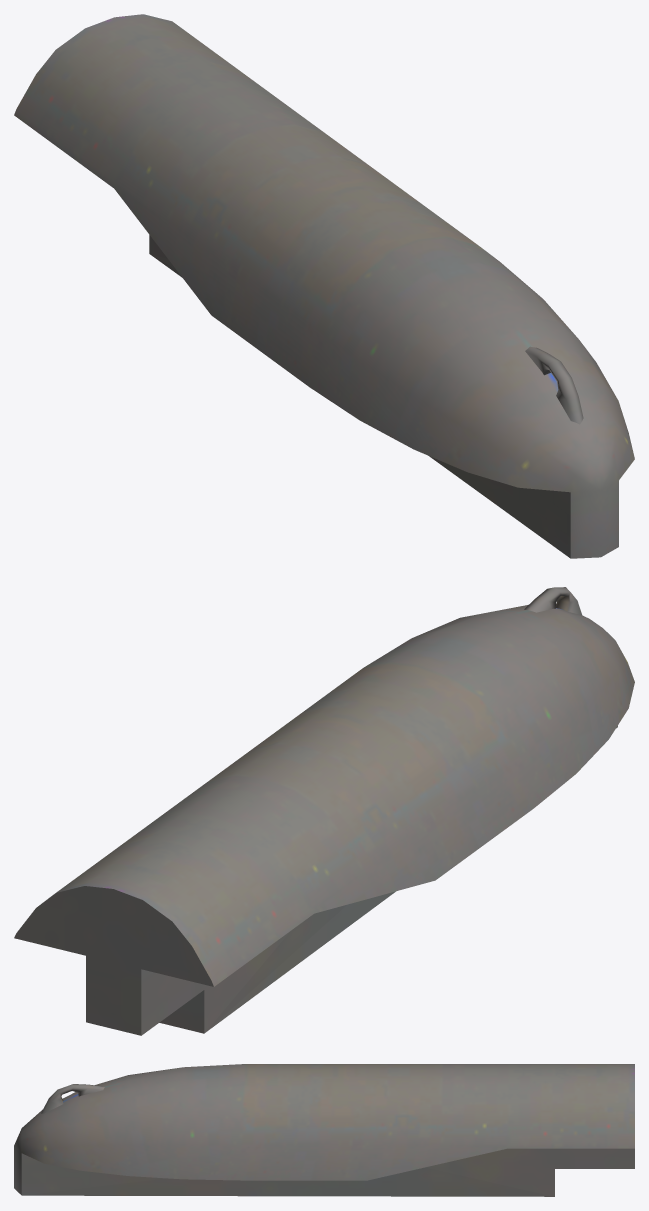
The model's file is acc2.obj.
3 renders of one model, top to bottom at view 1: azimuth 30°, elevation 25°; view 2: azimuth 150°, elevation 25°; view 3: azimuth 270°, elevation 25°, orthographic. The views are drawn at different scales.
Visible parts, largest first — view 1: acc2; view 2: acc2; view 3: acc2.
Boxes of the visible parts, box(x1,y1,x2,y2) form: acc2: box(14, 14, 634, 558); acc2: box(14, 587, 634, 1035); acc2: box(14, 1064, 634, 1196).
Bounding box in the file's own units: 4.86 × 3.81 × 18.27.
